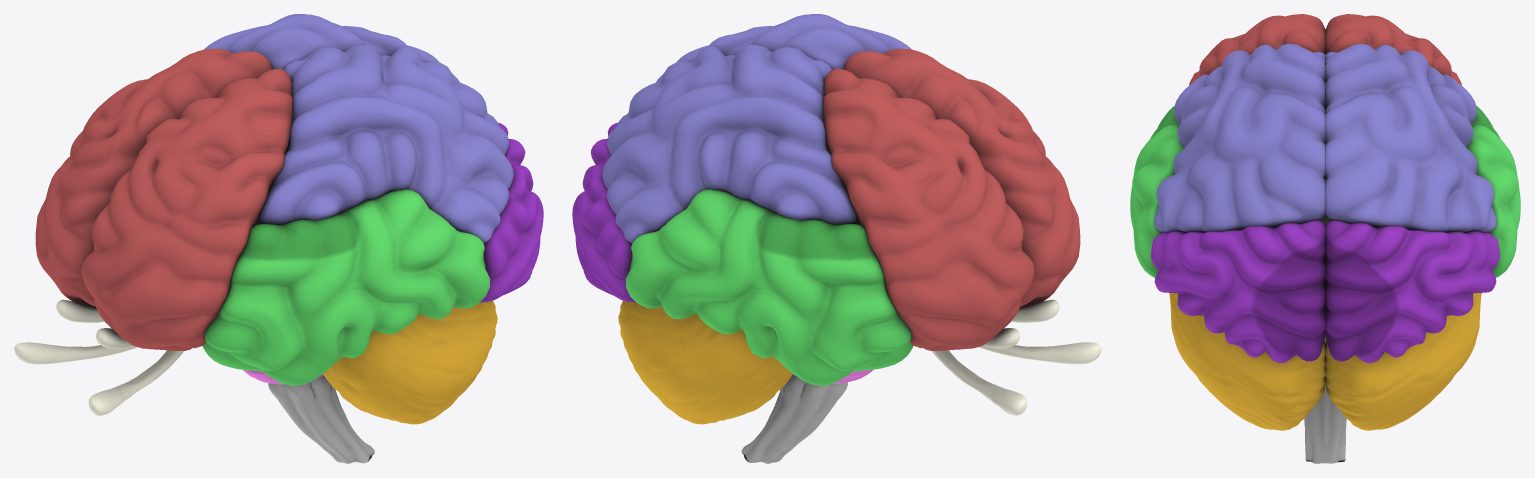
The model's file is Brain_port.glb.
3 views of the same model, side by side, from view 1: azimuth 30°, elevation 25°; view 2: azimuth 150°, elevation 25°; view 3: azimuth 270°, elevation 25° (orthographic). The views are drawn at different scales.
Parts seen in each view (by area): view 1: Frontal_2, Parietal_5, Temporal_6, Cerebellum_1, brainstem_Nerves_0, Occipital_4; view 2: Frontal_2, Parietal_5, Temporal_6, Cerebellum_1, brainstem_Nerves_0, Occipital_4; view 3: Parietal_5, Occipital_4, Cerebellum_1, Temporal_6, Frontal_2, brainstem_Nerves_0.
Part boxes in pixels (bbox=[...]): Frontal_2: bbox=[35, 48, 292, 350]; Parietal_5: bbox=[203, 14, 513, 242]; Temporal_6: bbox=[202, 189, 490, 385]; Cerebellum_1: bbox=[323, 300, 497, 424]; brainstem_Nerves_0: bbox=[14, 299, 374, 463]; Occipital_4: bbox=[480, 123, 543, 302]; Frontal_2: bbox=[823, 48, 1080, 350]; Parietal_5: bbox=[602, 14, 912, 242]; Temporal_6: bbox=[626, 189, 913, 385]; Cerebellum_1: bbox=[618, 300, 792, 424]; brainstem_Nerves_0: bbox=[741, 299, 1101, 463]; Occipital_4: bbox=[572, 123, 635, 302]; Parietal_5: bbox=[1154, 43, 1496, 232]; Occipital_4: bbox=[1151, 220, 1499, 363]; Cerebellum_1: bbox=[1169, 293, 1481, 430]; Temporal_6: bbox=[1130, 106, 1520, 277]; Frontal_2: bbox=[1189, 14, 1461, 85]; brainstem_Nerves_0: bbox=[1304, 178, 1346, 463].
Size of the model in its own units: 1.43 by 1.3 by 1.16.
Materials: 1 (1 with a texture image).
